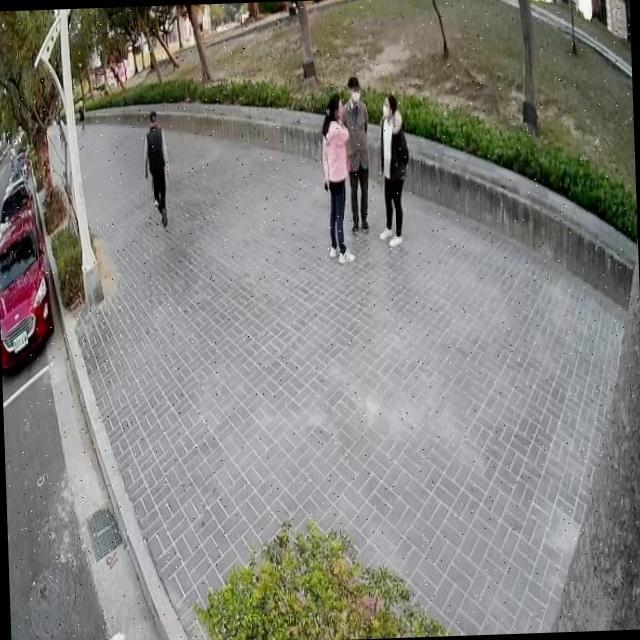person: (318, 86, 359, 265), (371, 85, 414, 246), (337, 71, 374, 238), (141, 106, 175, 230)
